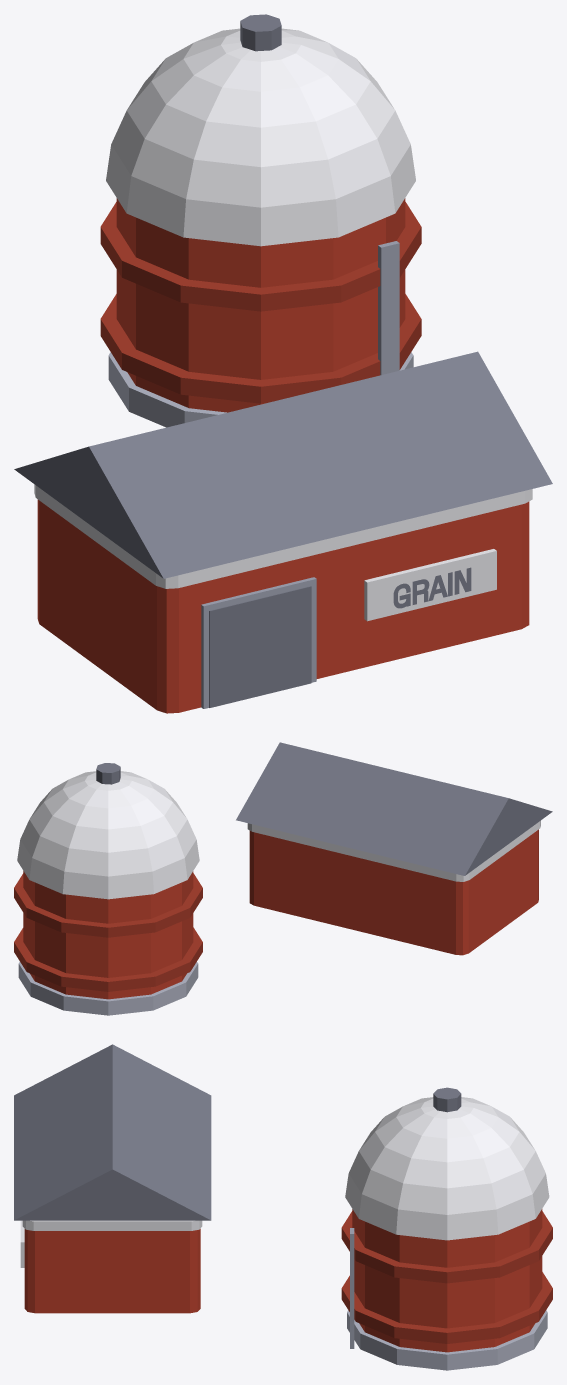
The model's file is silo-2x2-t2-tone-a.glb.
3 views of the same model, one above another, from view 1: azimuth 30°, elevation 25°; view 2: azimuth 150°, elevation 25°; view 3: azimuth 270°, elevation 25° (orthographic). The views are drawn at different scales.
Parts seen in each view (by area): view 1: silo-2x2-t2-tone-a; view 2: silo-2x2-t2-tone-a; view 3: silo-2x2-t2-tone-a.
Boxes of the visible parts, <box> form: silo-2x2-t2-tone-a: <box>14,14,552,713</box>; silo-2x2-t2-tone-a: <box>14,742,552,1015</box>; silo-2x2-t2-tone-a: <box>14,1044,552,1370</box>.
Bounding box in the file's own units: 1.22 × 0.735 × 1.53.
Materials: 1 (1 with a texture image).
